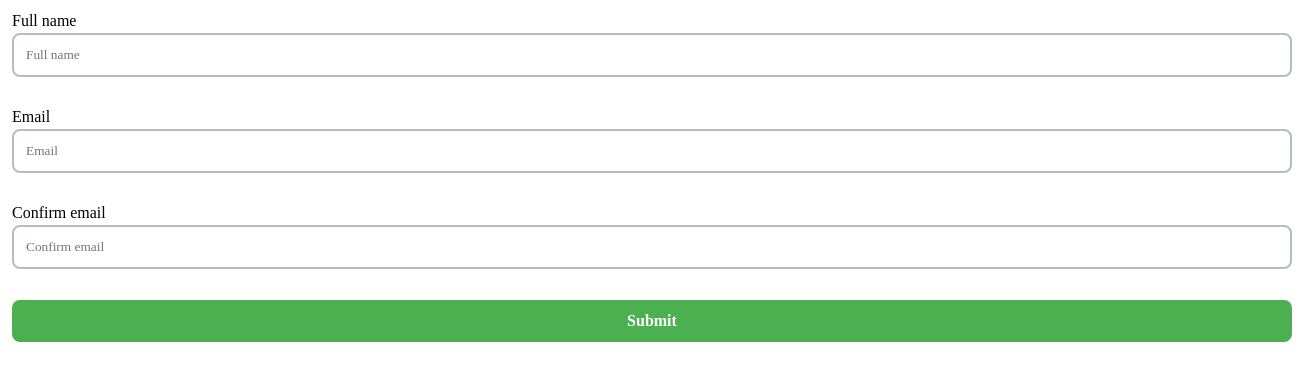
Test: InviteModalForm › shows submit error when email is already in use
This screenshot has width=1304, height=376.
Type "Test Name" into the field with placeholder "Full name" at (652, 55), box [12,33,1292,77]
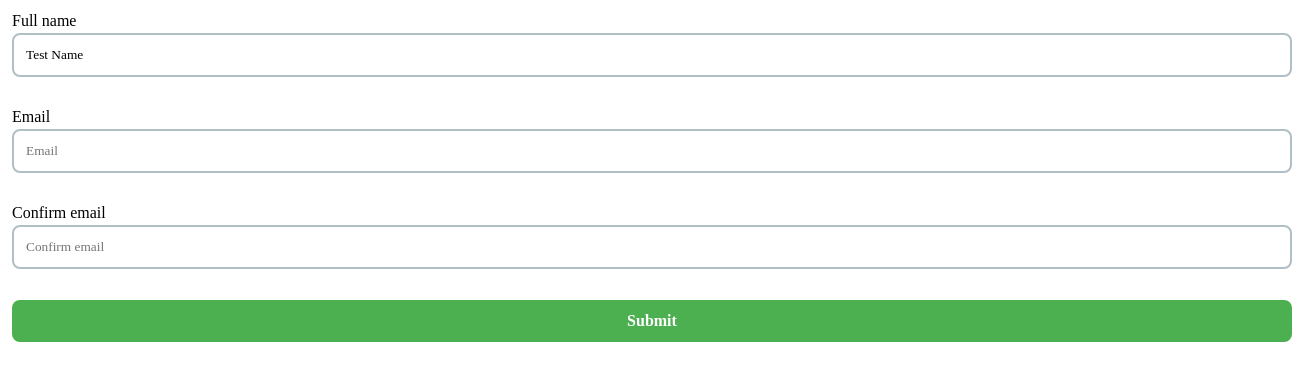
Type "test@test.com" into the field with placeholder "Email" at (652, 151), box [12,129,1292,173]
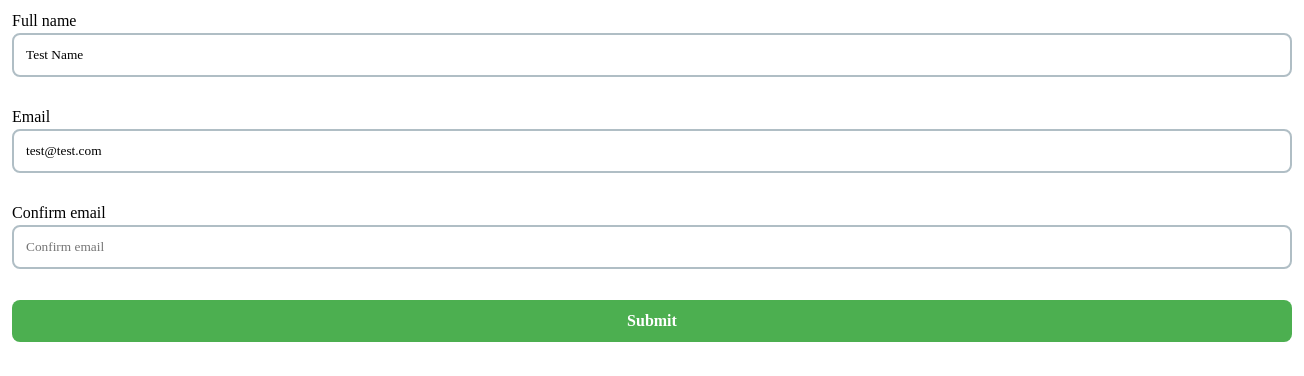
Type "test@test.com" into the field with placeholder "Confirm email" at (652, 247), box [12,225,1292,269]
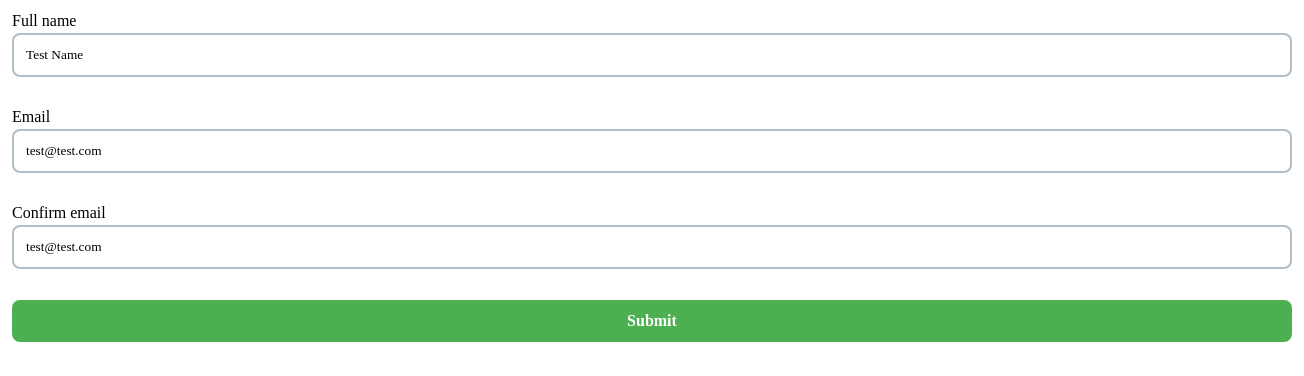
Click the button "Submit" at (652, 321), box [12,300,1292,342]
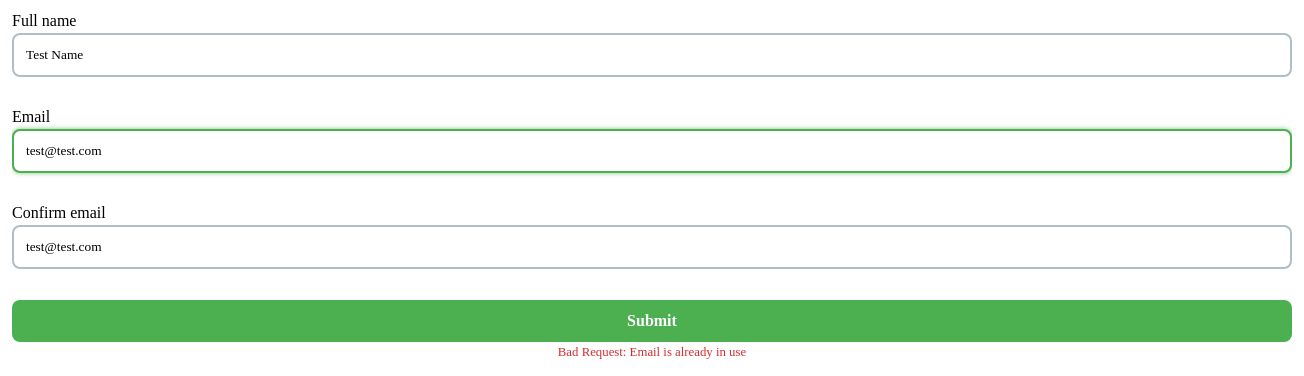
Check: the text "Bad Request: Email is already in use" is shown, box [558,345,746,359]
